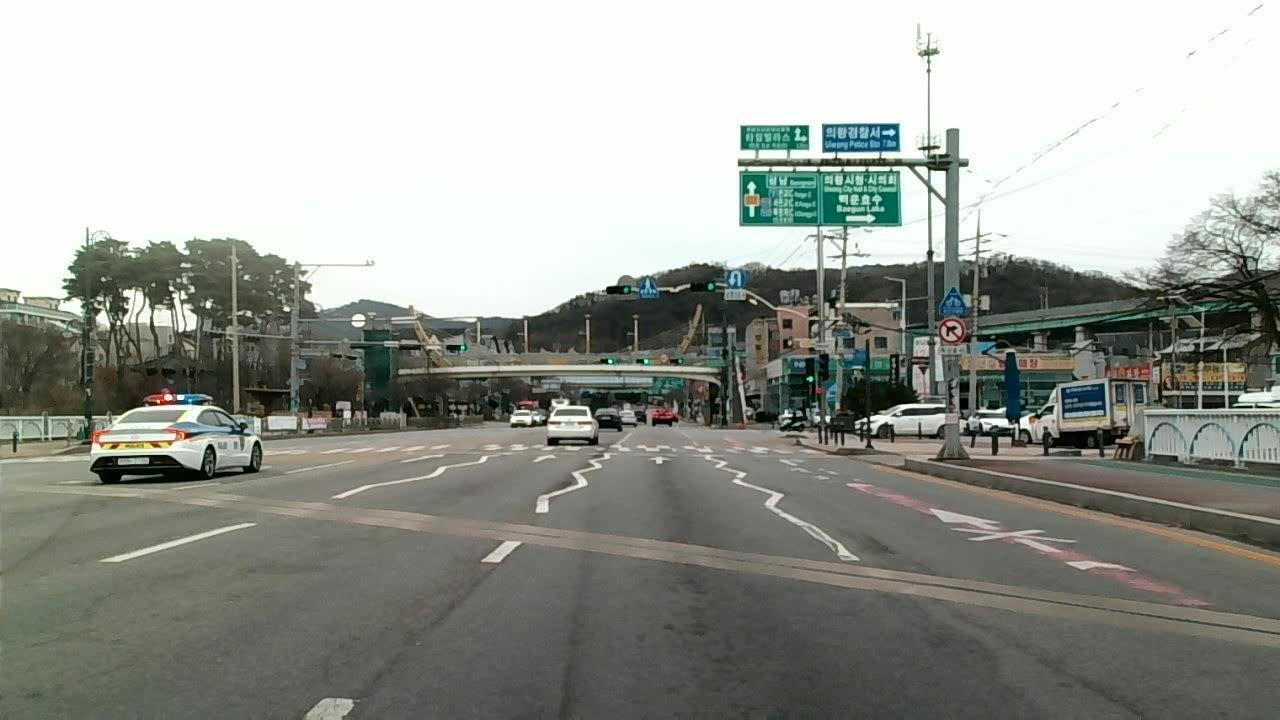vcrack: (807, 564, 1038, 608), (1061, 599, 1275, 635), (1038, 665, 1131, 716), (433, 564, 501, 621)
